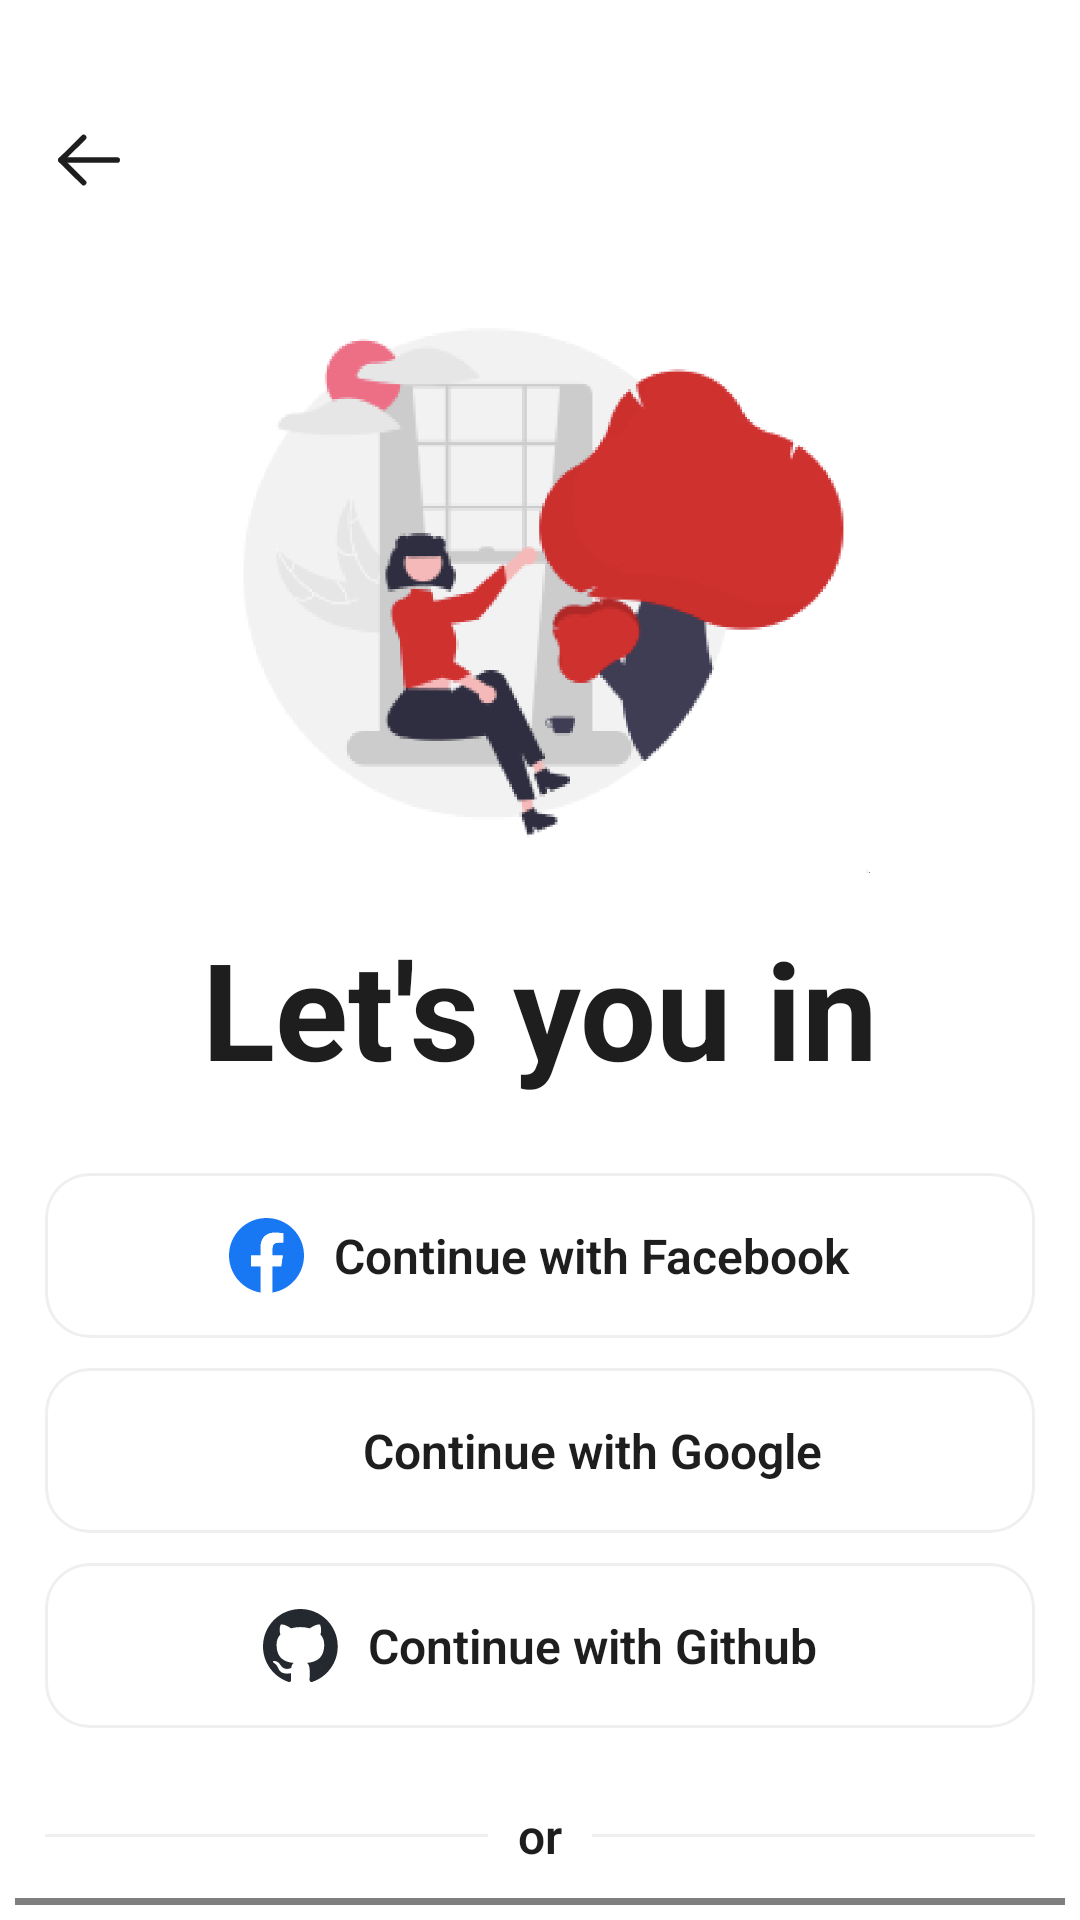

Point at icon controls on the screen. Image size 1080px x 1920px, points as (x,y).
Back button: (89,160)
